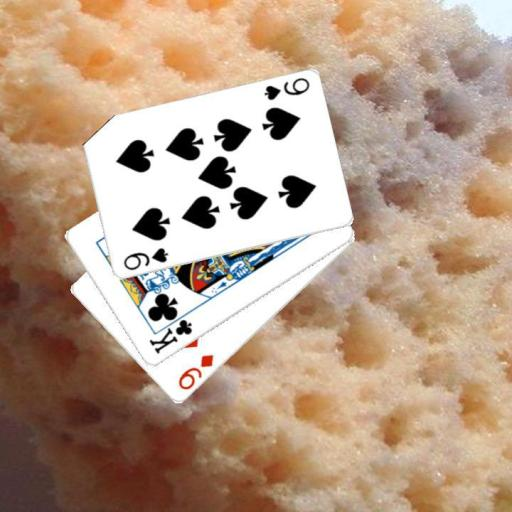9D: (175, 352, 215, 393)
9S: (120, 245, 170, 272), (261, 75, 311, 102)
KC: (146, 308, 193, 355)
